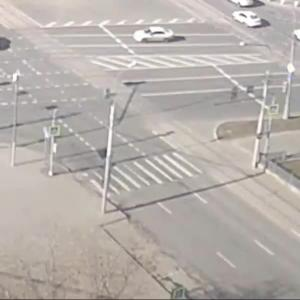car: (131, 27, 175, 47), (233, 12, 263, 29)
